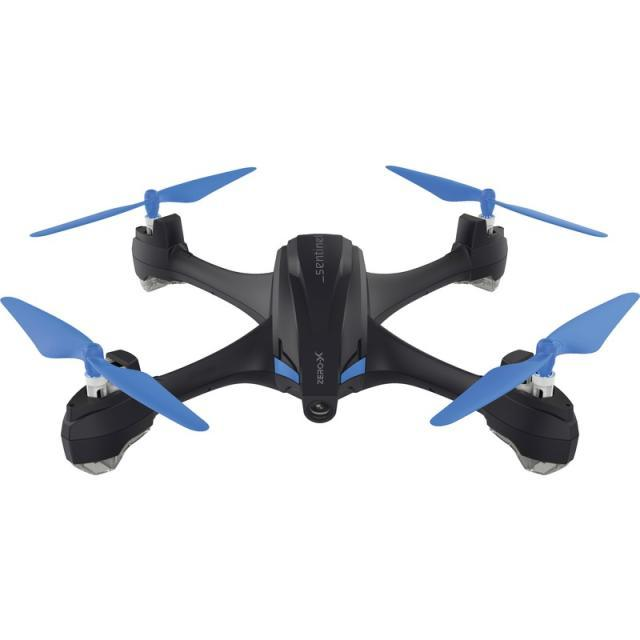drone: (13, 172, 638, 482)
